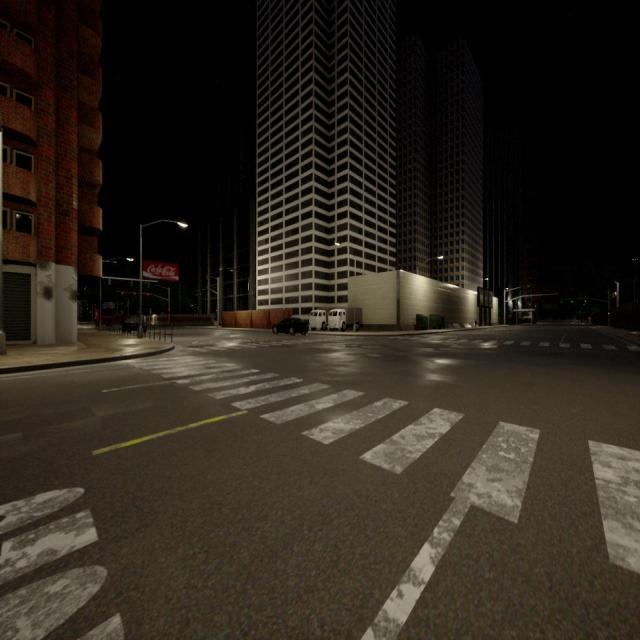Pedestrian: (475, 320, 477, 327)
Vehicle: (328, 307, 362, 331), (272, 317, 309, 337), (308, 306, 329, 332), (95, 309, 122, 327), (122, 316, 147, 335)
traffic_light: (121, 291, 124, 296), (584, 298, 587, 303), (133, 292, 136, 296), (571, 298, 573, 304), (608, 310, 610, 316), (168, 310, 170, 314), (147, 293, 149, 297), (216, 308, 217, 312)
